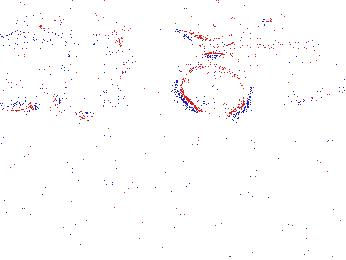moon jellyfish: (53, 33, 125, 120), (249, 48, 346, 103), (176, 53, 251, 118), (3, 30, 70, 99), (1, 36, 40, 112)
